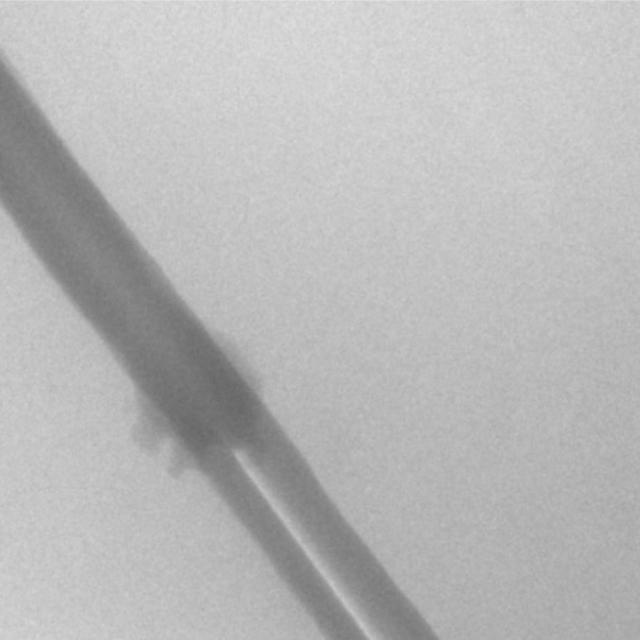broken arc: (232, 447, 379, 639)
